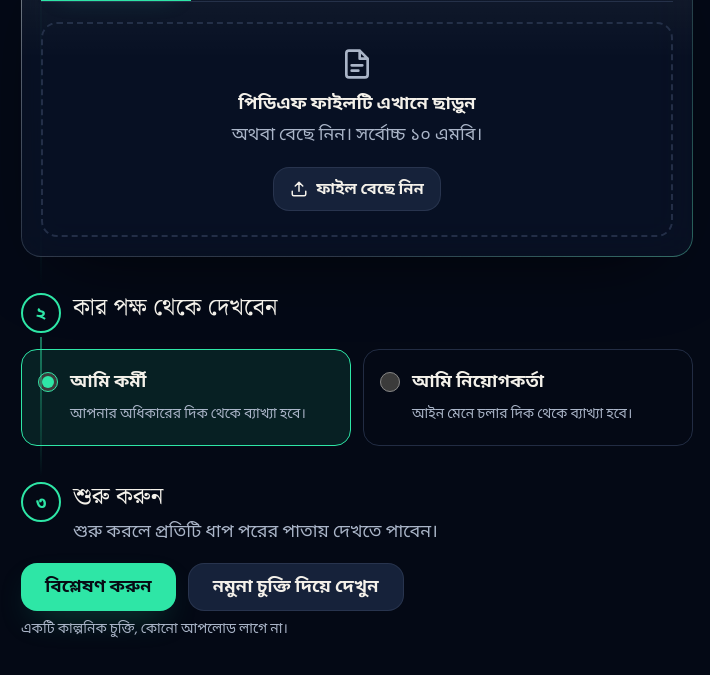
Test: UploadPage › FR-69 asks for input before sending anything, in Bangla
(page scrolled)
Step 1. Click the button "বিশ্লেষণ করুন" → (98,587), box [21,563,176,611]
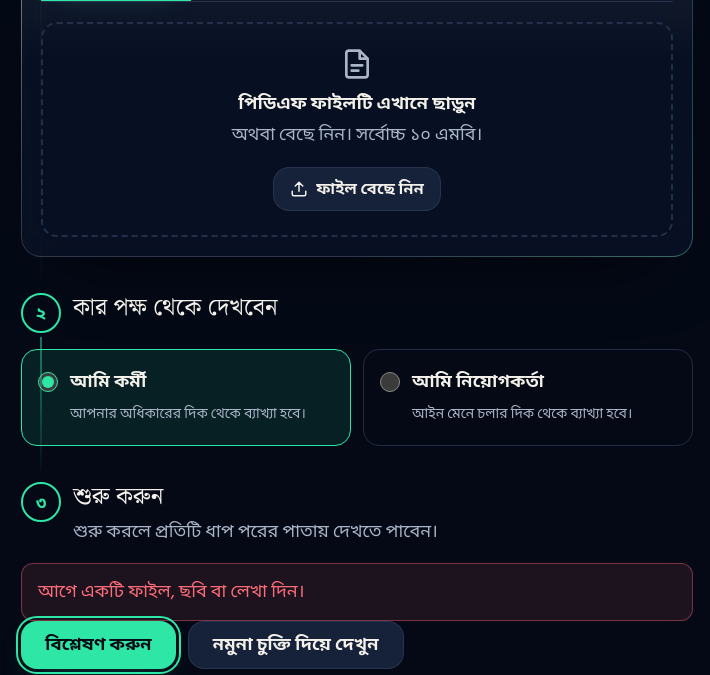
Expected: the message reads "আগে একটি ফাইল, ছবি বা লেখা দিন।", [38,577,304,606]
